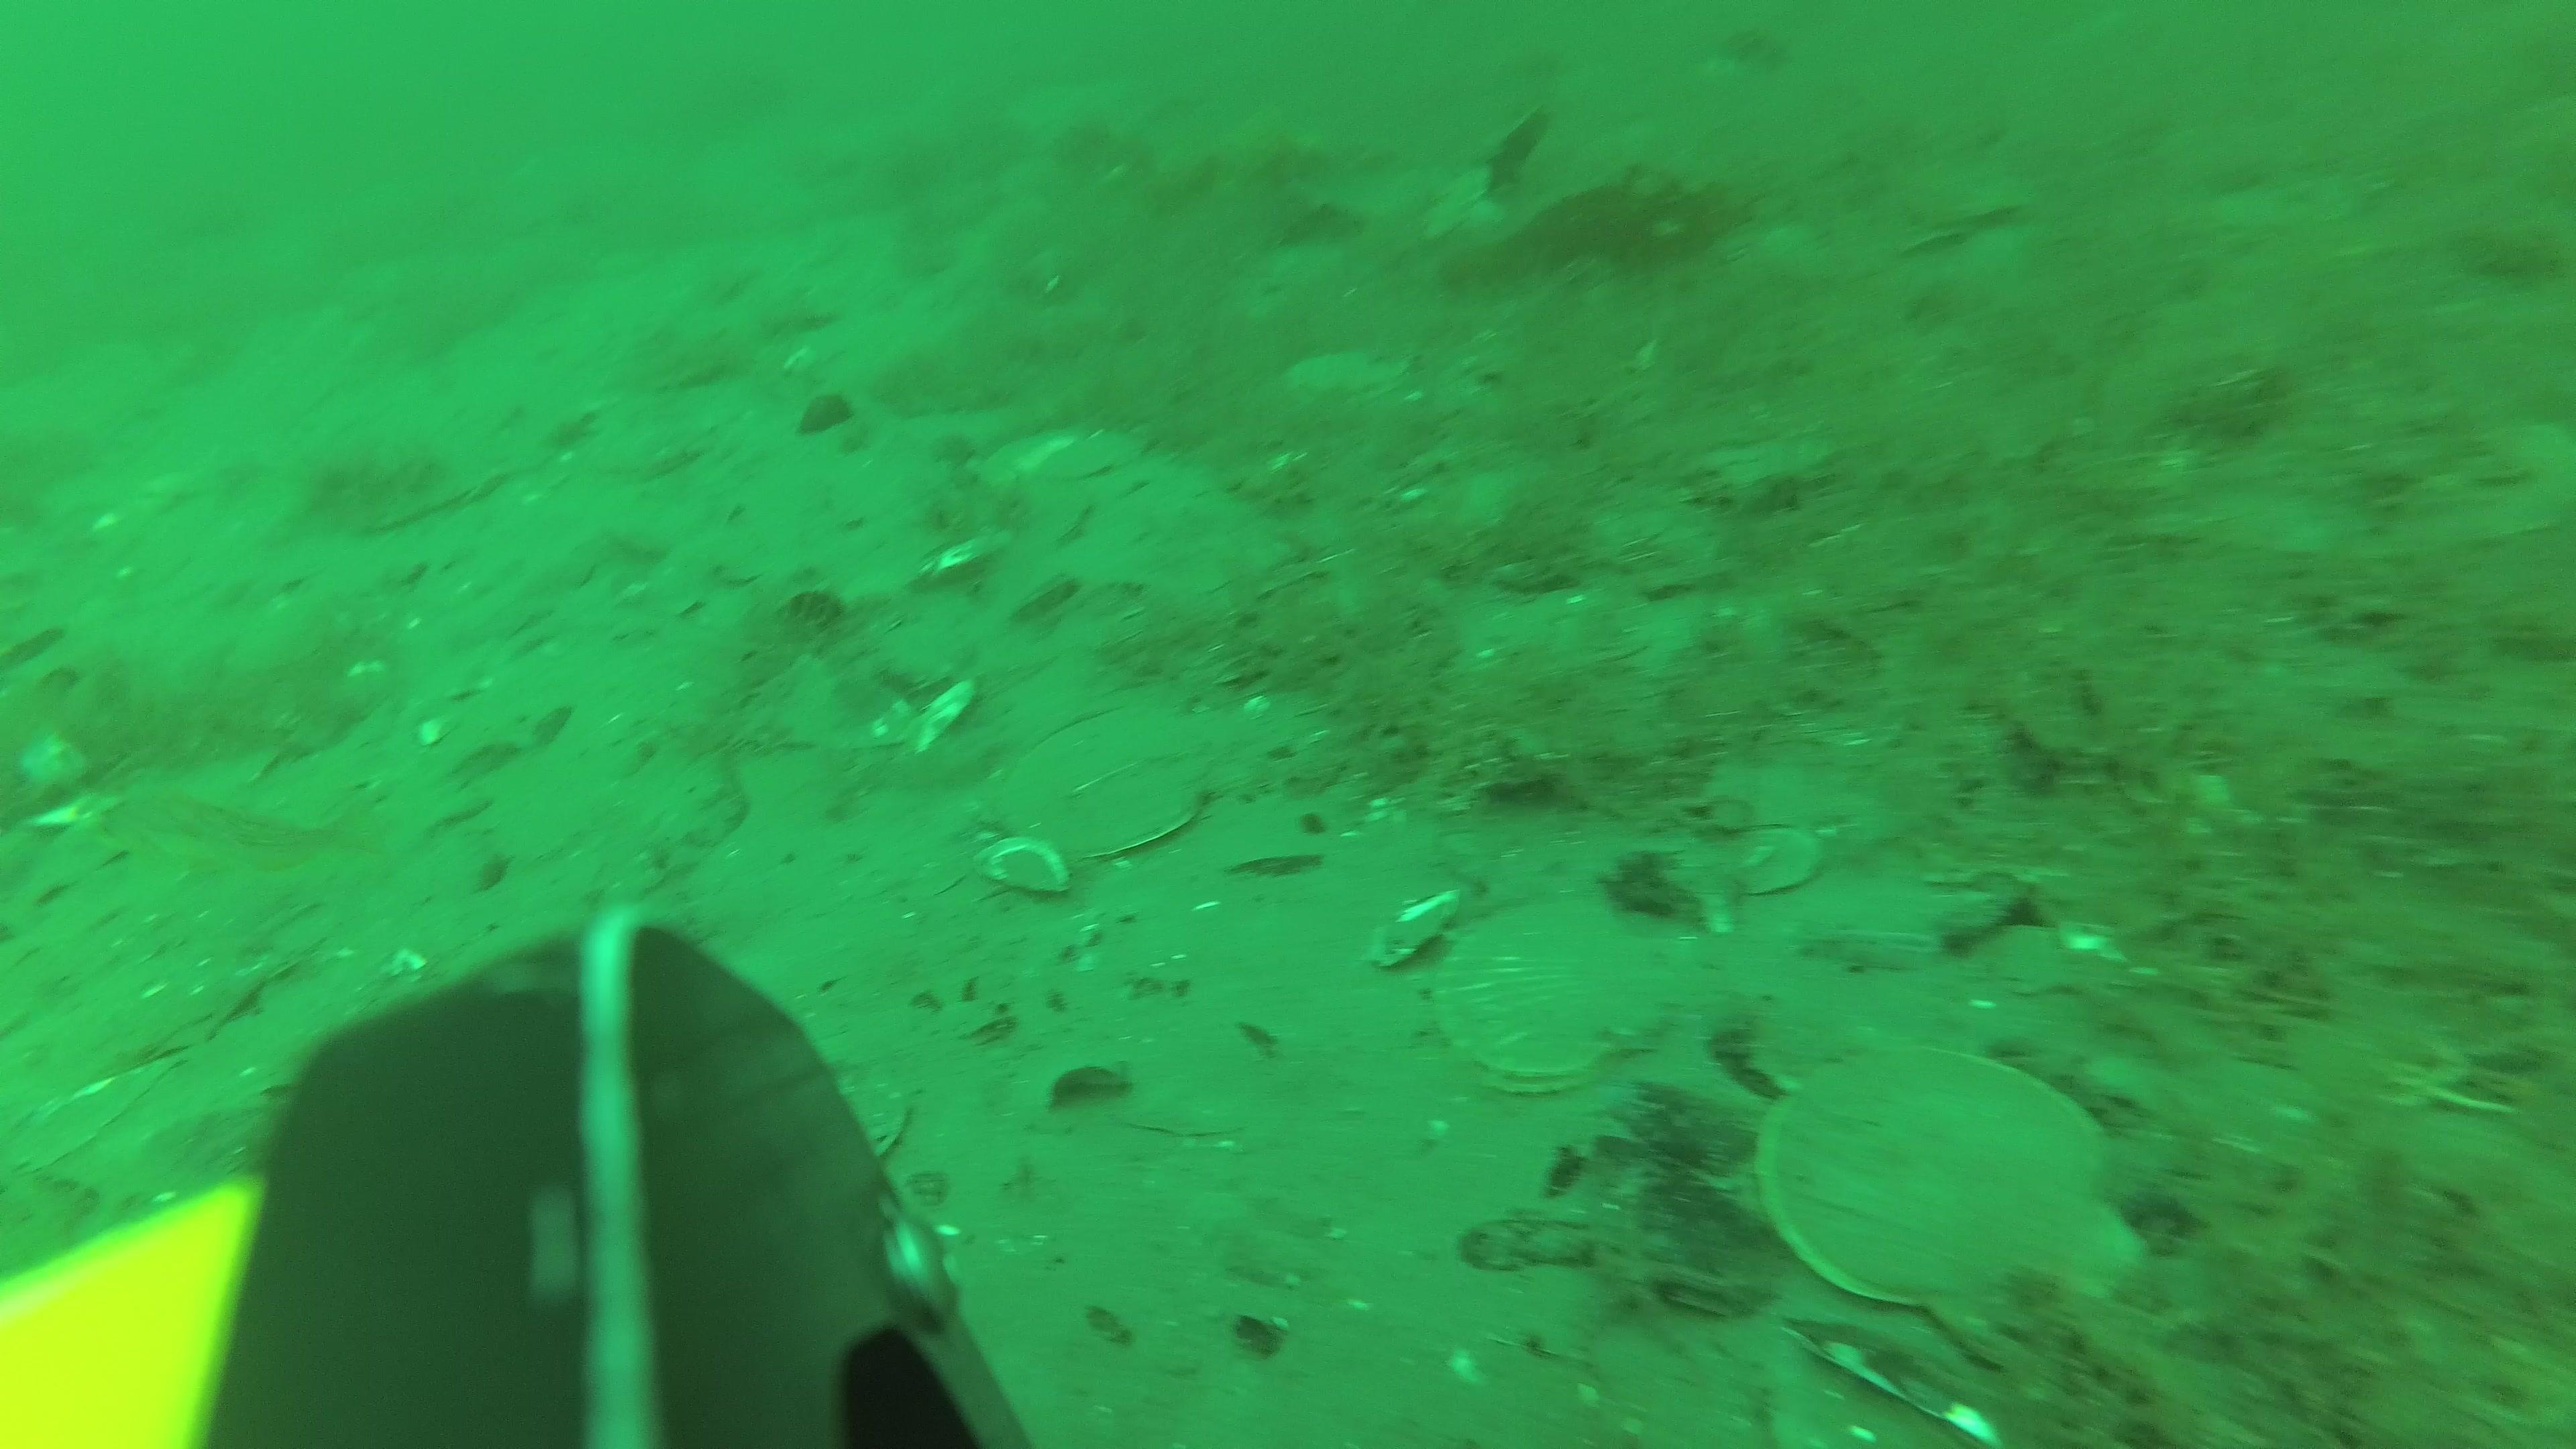scallop: (1760, 1046, 2143, 1362), (1435, 904, 1665, 1093), (1000, 709, 1254, 860), (602, 410, 722, 479), (1292, 352, 1407, 410), (1054, 433, 1146, 478), (991, 423, 1067, 472)
